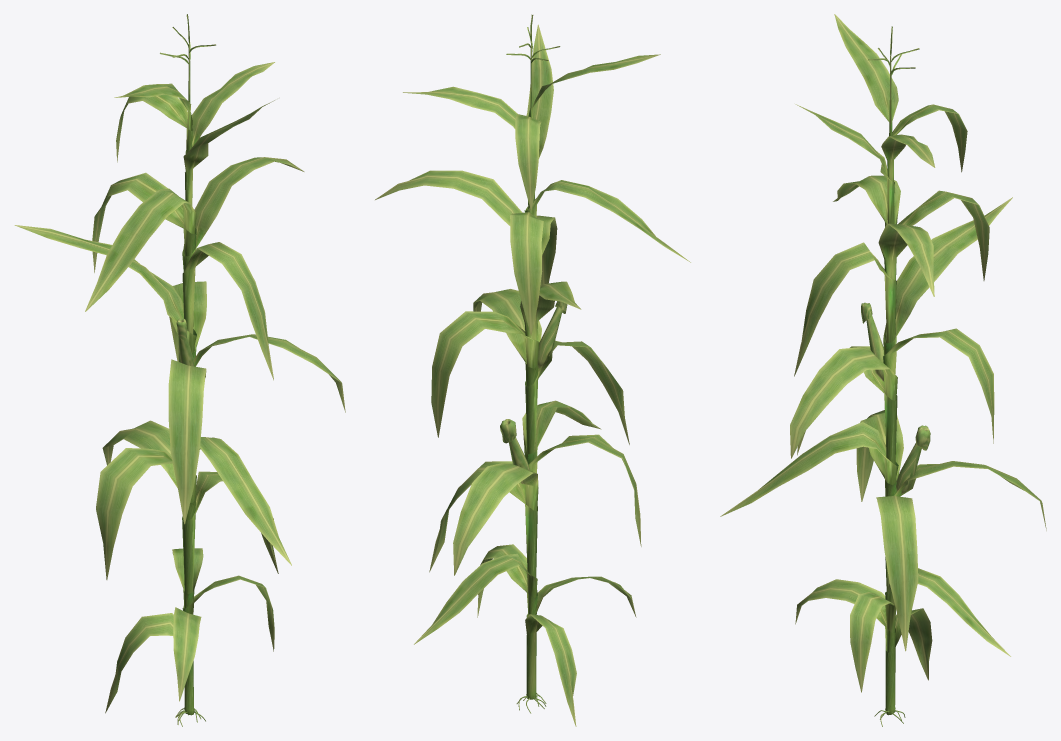
The model's file is cornstalk.obj.
3 views of the same model, side by side, from view 1: azimuth 30°, elevation 25°; view 2: azimuth 150°, elevation 25°; view 3: azimuth 270°, elevation 25° (orthographic).
Parts seen in each view (by area): view 1: CornStalk; view 2: CornStalk; view 3: CornStalk.
Boxes of the visible parts, box(x1,y1,x2,y2) form: CornStalk: box(14, 14, 345, 726); CornStalk: box(375, 14, 690, 726); CornStalk: box(720, 14, 1046, 726).
Bounding box in the file's own units: 0.3982 × 0.9902 × 0.4224.
